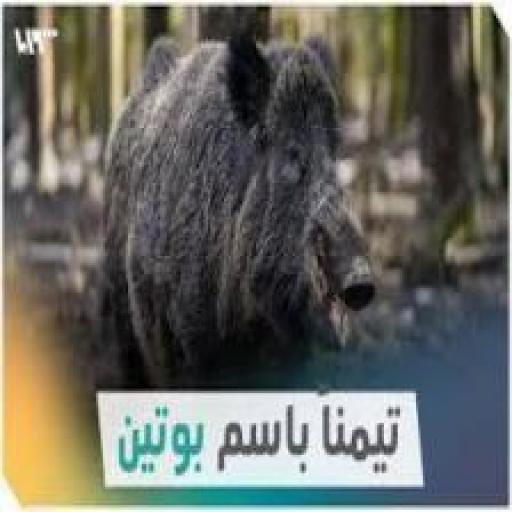Pig: (87, 11, 386, 408)
